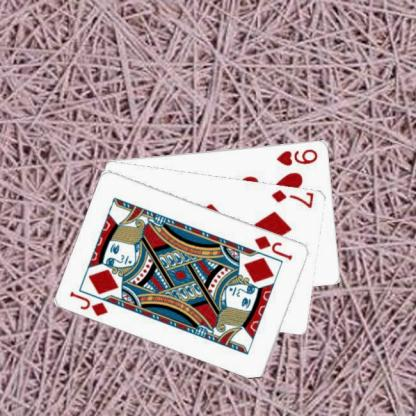7D: (269, 187, 315, 209)
9H: (274, 146, 319, 166)
JD: (252, 232, 294, 262), (67, 288, 110, 317)
